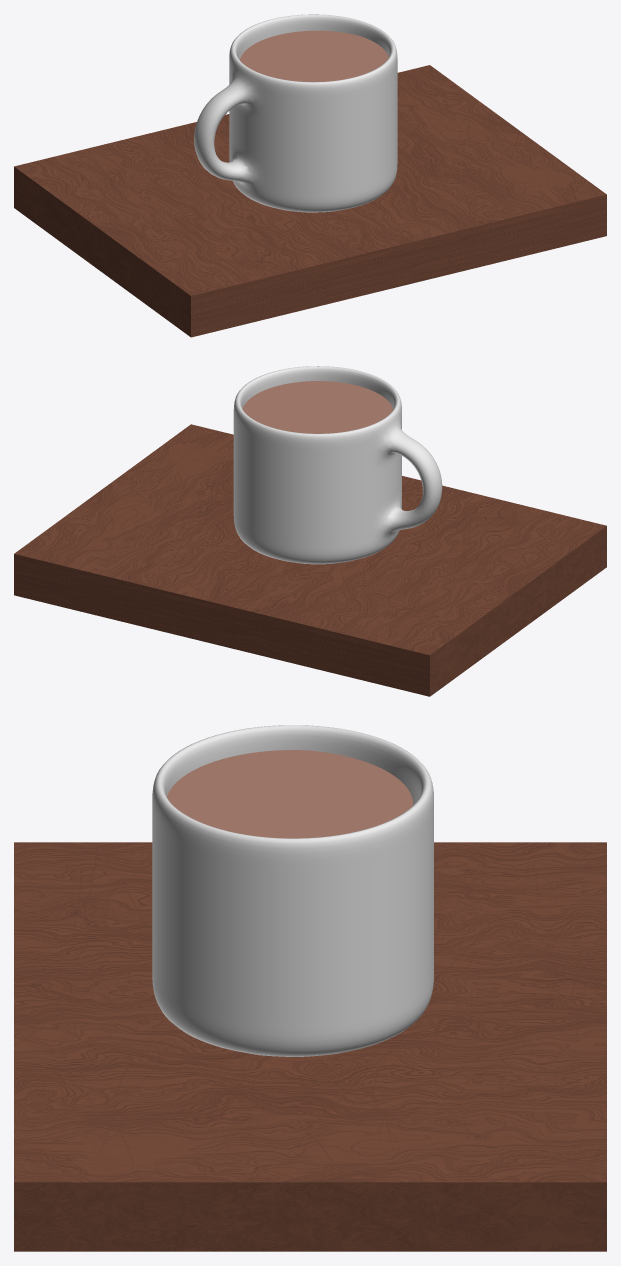
The model's file is mug.glb.
3 views of the same model, one above another, from view 1: azimuth 30°, elevation 25°; view 2: azimuth 150°, elevation 25°; view 3: azimuth 270°, elevation 25° (orthographic). The views are drawn at different scales.
Visible parts, largest first — view 1: 000_Buffer_Layer_3, 002_Buffer_Layer, 001_Buffer_Layer_1; view 2: 000_Buffer_Layer_3, 002_Buffer_Layer, 001_Buffer_Layer_1; view 3: 000_Buffer_Layer_3, 002_Buffer_Layer, 001_Buffer_Layer_1.
Part boxes in pixels (bbox=[...]): 000_Buffer_Layer_3: bbox=[14, 65, 606, 337]; 002_Buffer_Layer: bbox=[194, 14, 397, 212]; 001_Buffer_Layer_1: bbox=[240, 30, 388, 81]; 000_Buffer_Layer_3: bbox=[14, 424, 606, 696]; 002_Buffer_Layer: bbox=[233, 366, 442, 564]; 001_Buffer_Layer_1: bbox=[242, 381, 393, 433]; 000_Buffer_Layer_3: bbox=[14, 842, 606, 1251]; 002_Buffer_Layer: bbox=[152, 725, 433, 1056]; 001_Buffer_Layer_1: bbox=[167, 750, 412, 838].
Bounding box in the file's own units: 556 × 227 × 410.
Materials: 3 (1 with a texture image).
